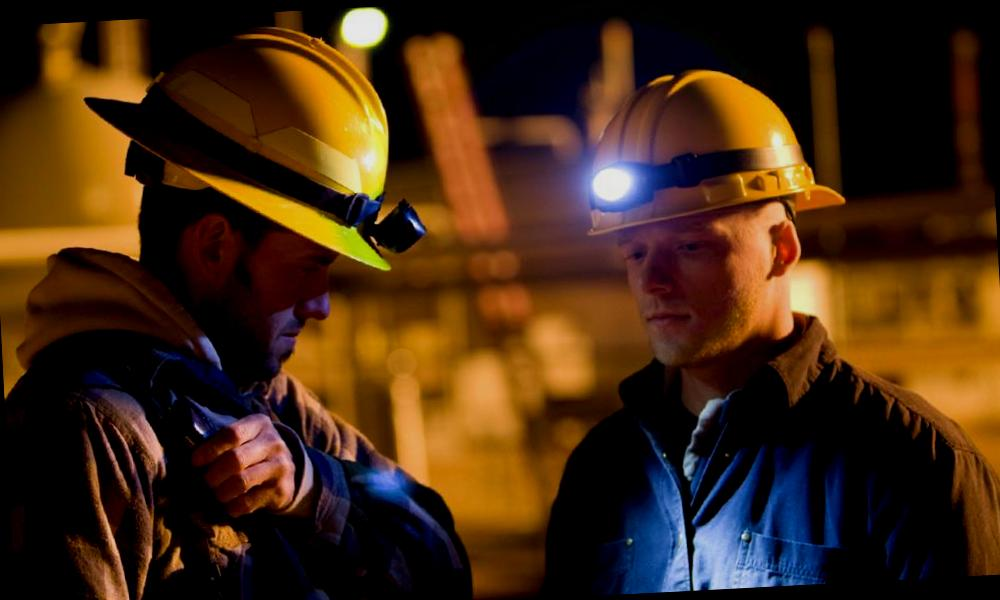helmet: (77, 25, 417, 296), (565, 49, 851, 251)
no_vest: (536, 317, 959, 589), (3, 344, 444, 600)
person: (0, 21, 447, 600), (522, 46, 951, 596)
